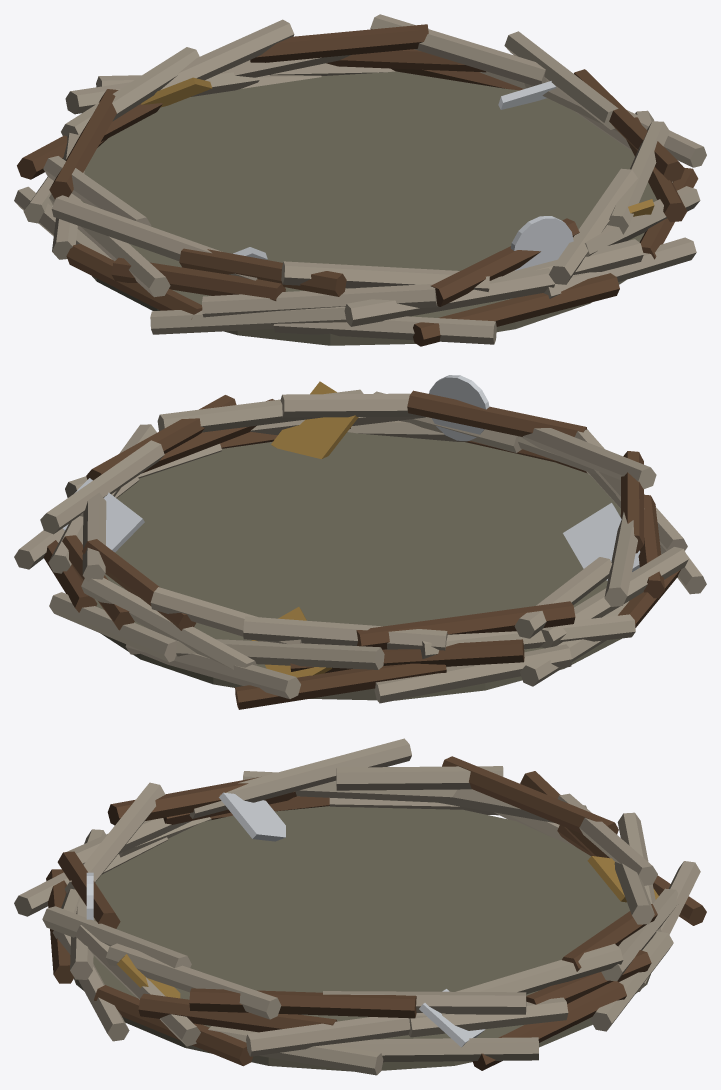
The model's file is glint_nest.fbx.
3 renders of one model, top to bottom at view 1: azimuth 30°, elevation 25°; view 2: azimuth 150°, elevation 25°; view 3: azimuth 270°, elevation 25°, orthographic. The views are drawn at different scales.
Parts seen in each view (by area): view 1: Nest_Floor, Nest_Scrap; view 2: Nest_Floor, Nest_Scrap; view 3: Nest_Floor, Nest_Scrap.
Part boxes in pixels (bbox=[...]): Nest_Floor: bbox=[14, 14, 706, 346]; Nest_Scrap: bbox=[141, 77, 654, 270]; Nest_Floor: bbox=[14, 389, 706, 709]; Nest_Scrap: bbox=[62, 375, 640, 677]; Nest_Floor: bbox=[14, 738, 706, 1075]; Nest_Scrap: bbox=[86, 792, 658, 1047].
Bounding box in the file's own units: 580 × 85.86 × 600.
